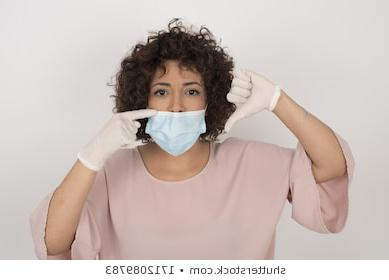mask_weared_incorrect: (148, 81, 205, 153)
